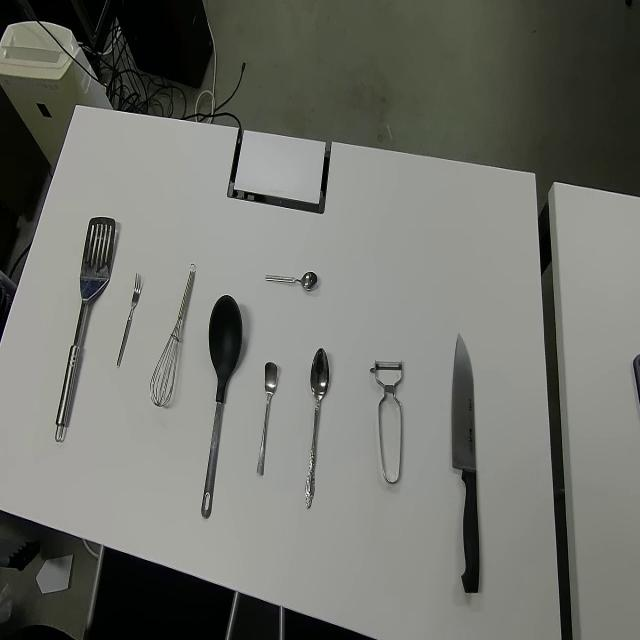Desert-Spoon: (306, 346, 330, 508)
Dinner-Fork: (115, 272, 141, 371)
Kitchen-Knife: (451, 331, 481, 593)
Peeler: (369, 356, 404, 483)
Serving-Spoon: (53, 216, 115, 447), (202, 292, 242, 518)
Tea-Spoon: (257, 360, 278, 476), (264, 267, 318, 291)
Whisk: (149, 261, 196, 408)
